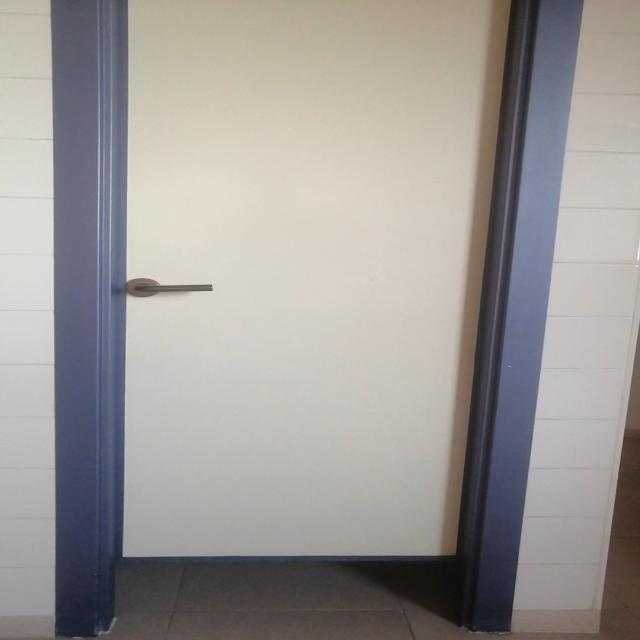door_handle: (130, 282, 218, 294)
